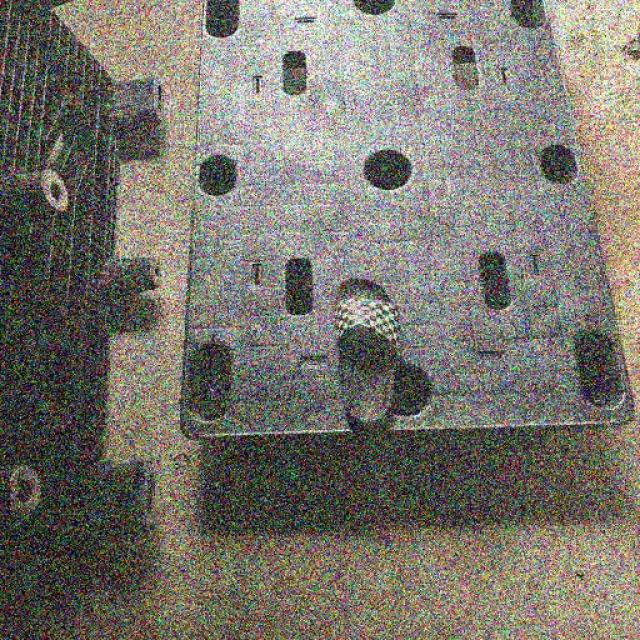non-igps: (170, 0, 640, 451), (0, 0, 174, 596)
